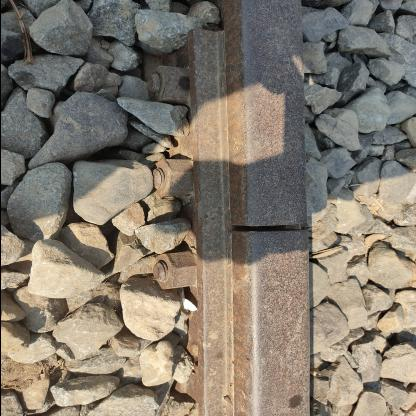Non Defective: (118, 26, 340, 402)
